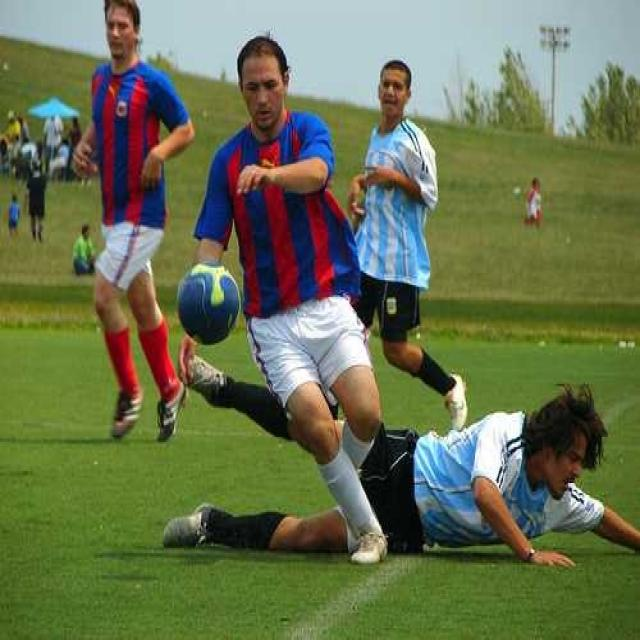ball: (179, 263, 241, 345)
